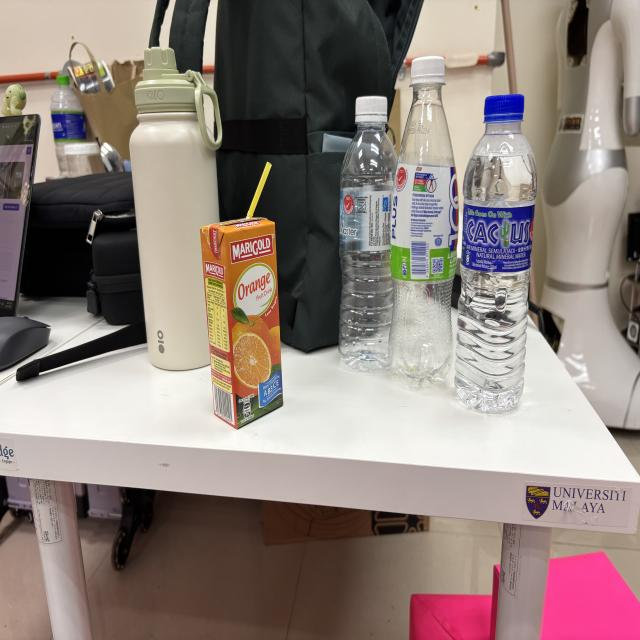drink_carton: (200, 155, 292, 434)
plastic_bottle: (448, 83, 544, 420), (384, 49, 464, 400), (335, 88, 404, 383)
